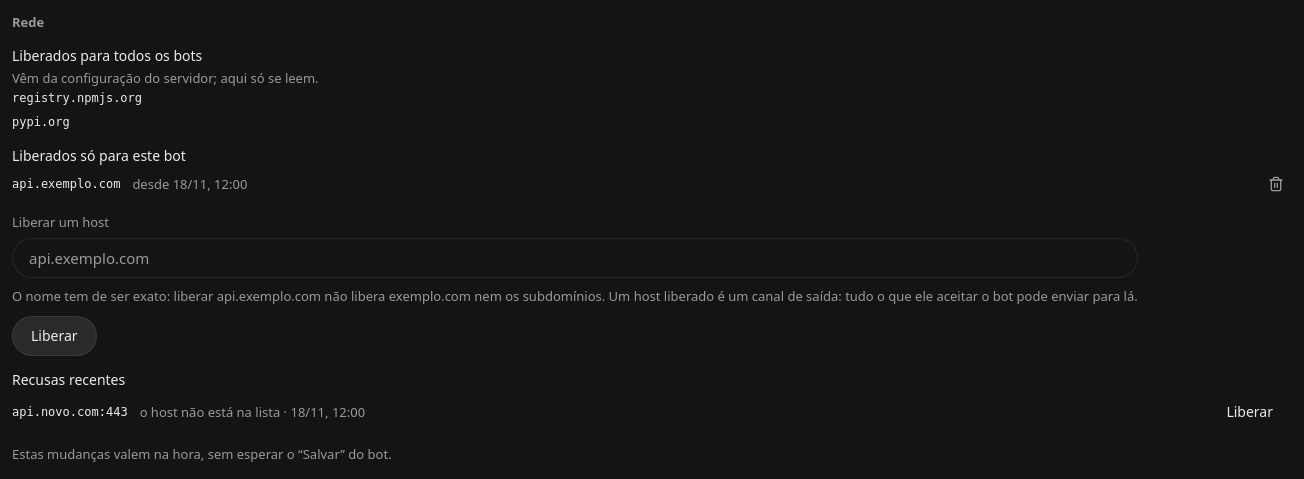
Scenario: the Rede section of a bot › an empty field is refused in the app; nothing else is judged there
Check: the list with test id "network-defaults" is shown, box x1=12 y1=91 x2=142 y2=129
Click the button with test id "network-add" at (54, 336), box x1=12 y1=316 x2=97 y2=356
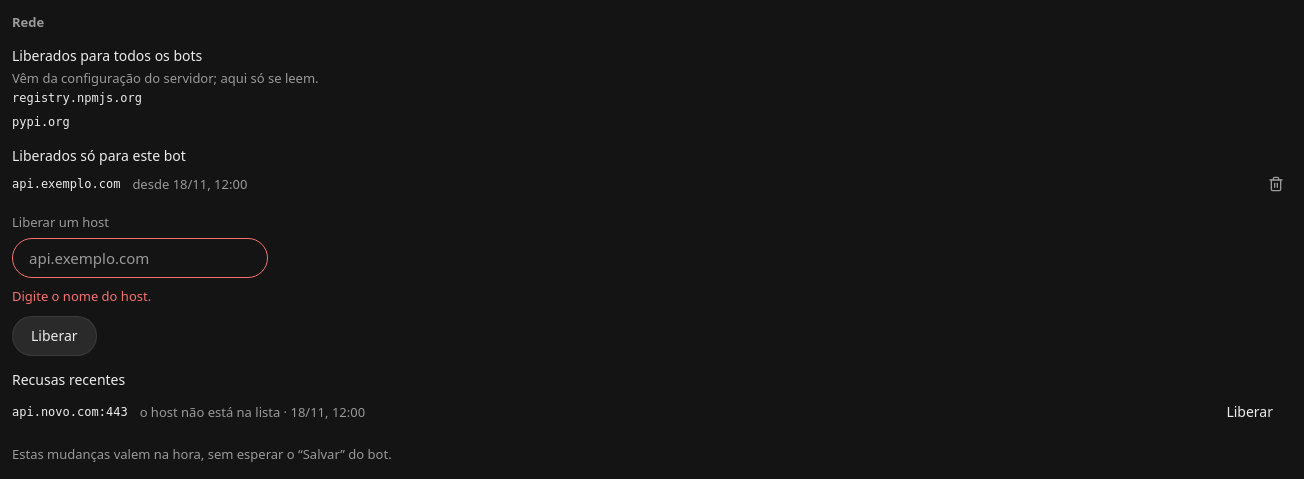
Check: the message reads "Digite o nome do host.", box x1=12 y1=287 x2=151 y2=305
